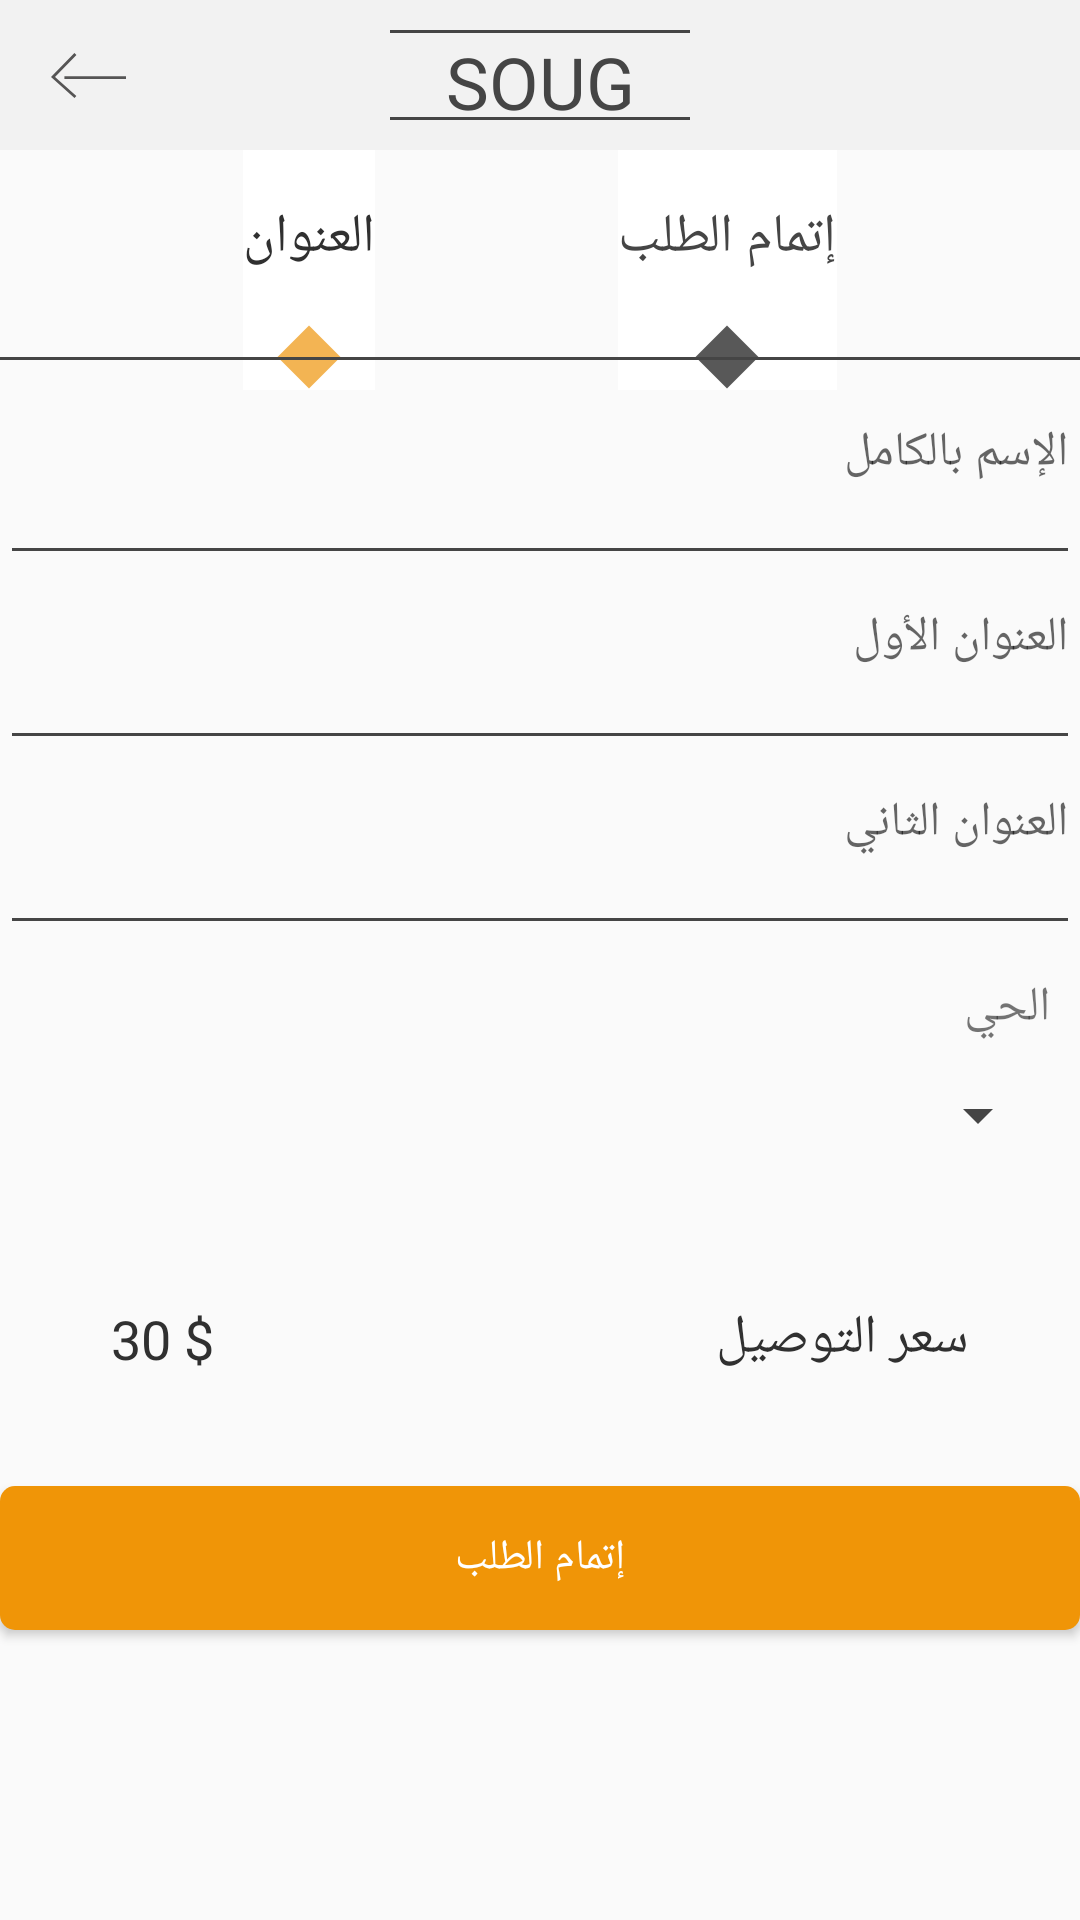

Point at icon controls on the screen. Image size 1080px×1920px, points as point (x, y).
back: point (88, 75)
